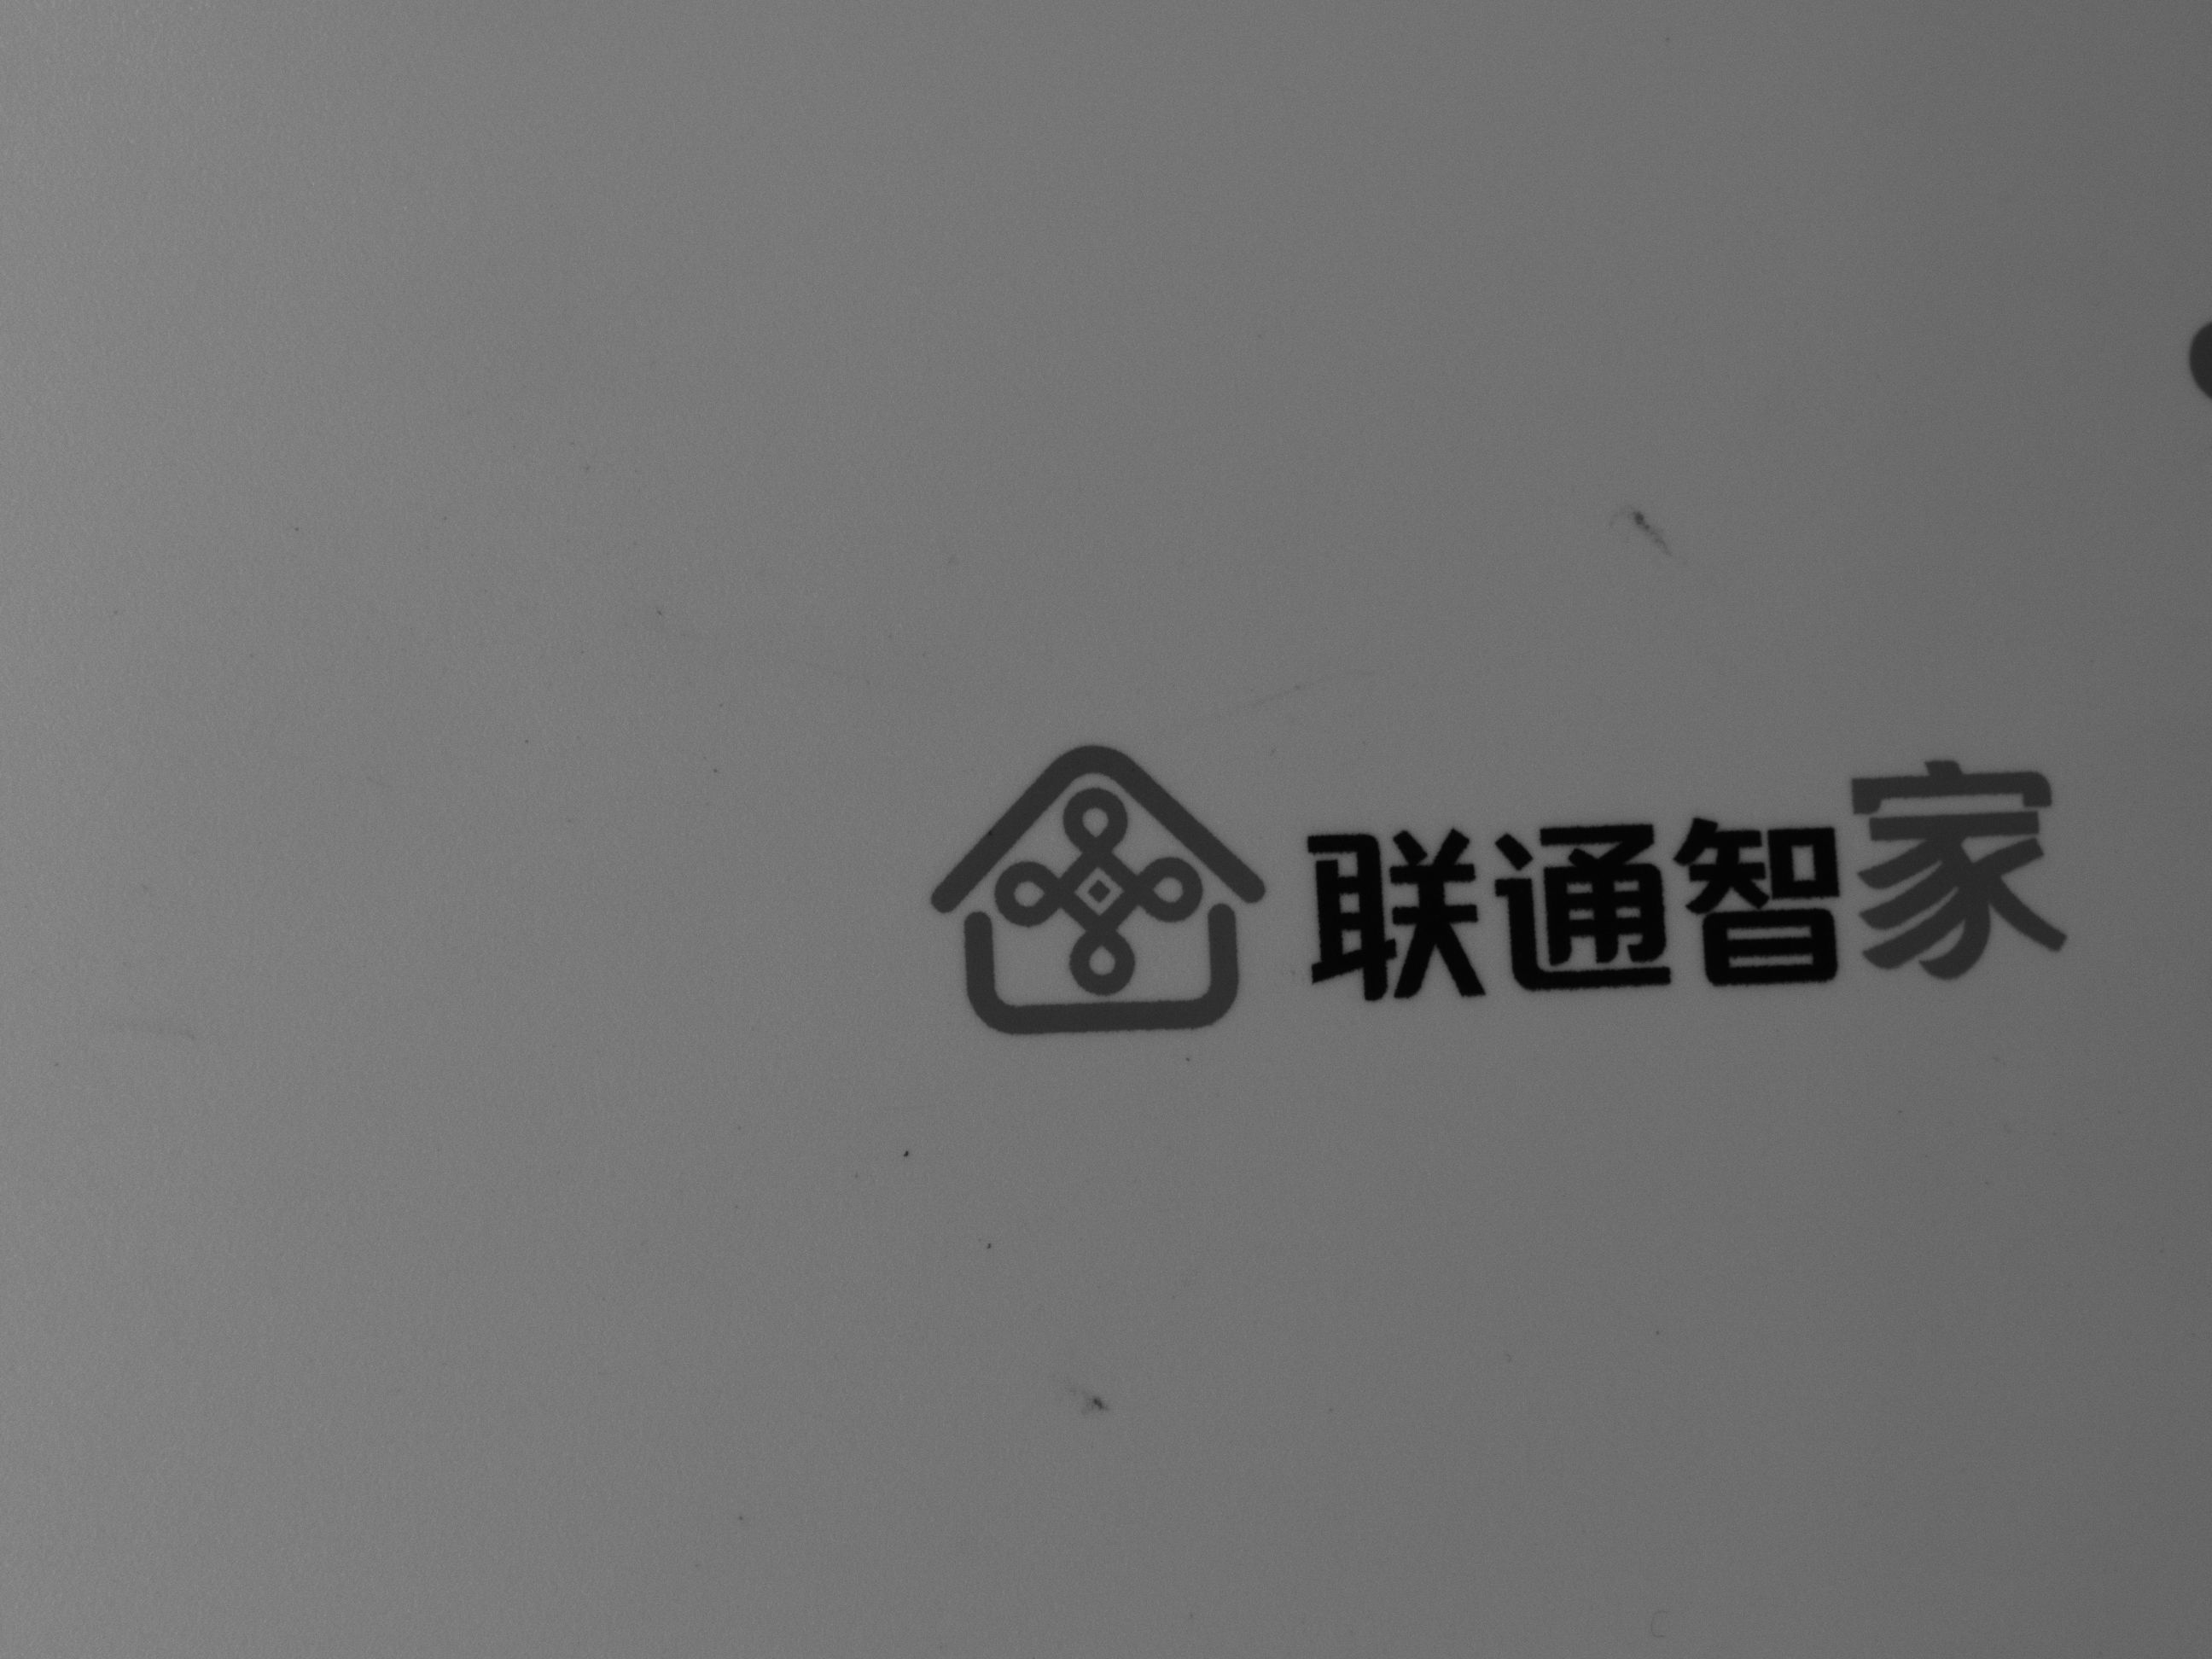BY_F6610Unicome: (834, 667, 2069, 1040)
